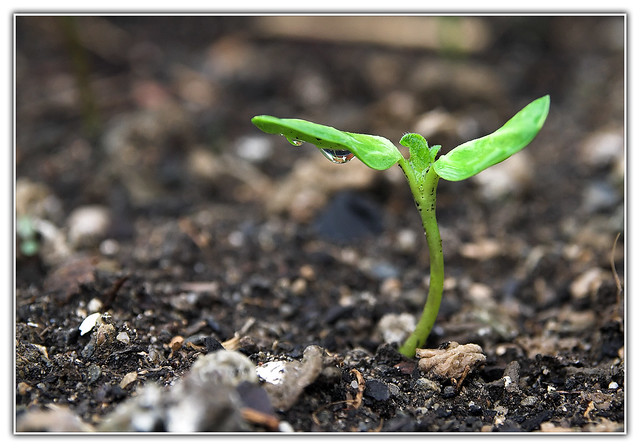girasol5-12dias: (239, 96, 585, 361)
